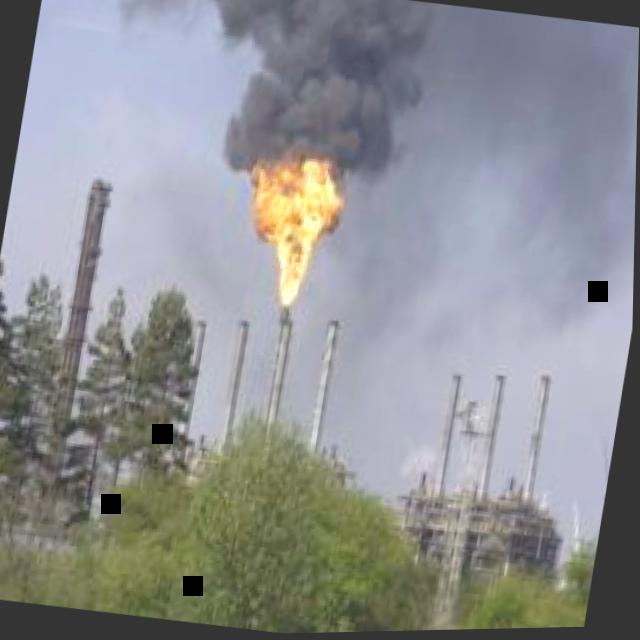fire: (251, 159, 347, 308)
smoke: (7, 0, 639, 454)
